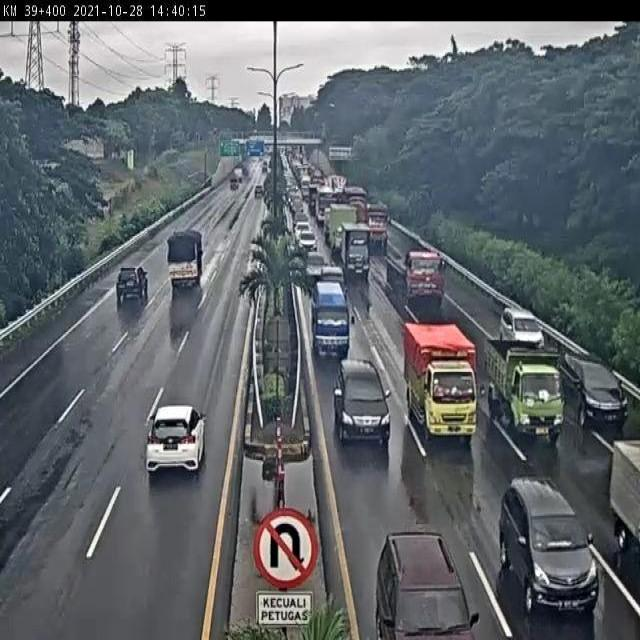bus-s-: (309, 279, 354, 360)
car: (498, 473, 601, 612), (560, 349, 631, 432), (332, 355, 392, 449), (145, 404, 207, 476), (496, 306, 547, 350), (115, 266, 150, 302), (317, 266, 347, 298), (304, 252, 331, 285), (295, 229, 320, 256)
small truck: (166, 227, 205, 284)
truck-l-: (360, 199, 391, 249)
truck-m-: (401, 320, 483, 441), (483, 329, 566, 444), (328, 204, 359, 259), (342, 225, 373, 279)
truck-xl-: (386, 247, 449, 305)
